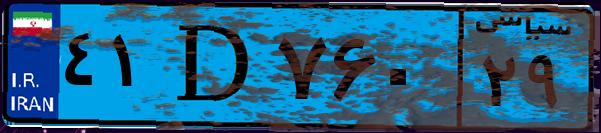0: (385, 28, 445, 110)
1: (110, 28, 158, 98)
2: (475, 38, 525, 113)
4: (57, 26, 110, 100)
6: (330, 28, 385, 110)
7: (270, 28, 330, 110)
9: (525, 38, 570, 115)
D: (158, 12, 270, 120)
